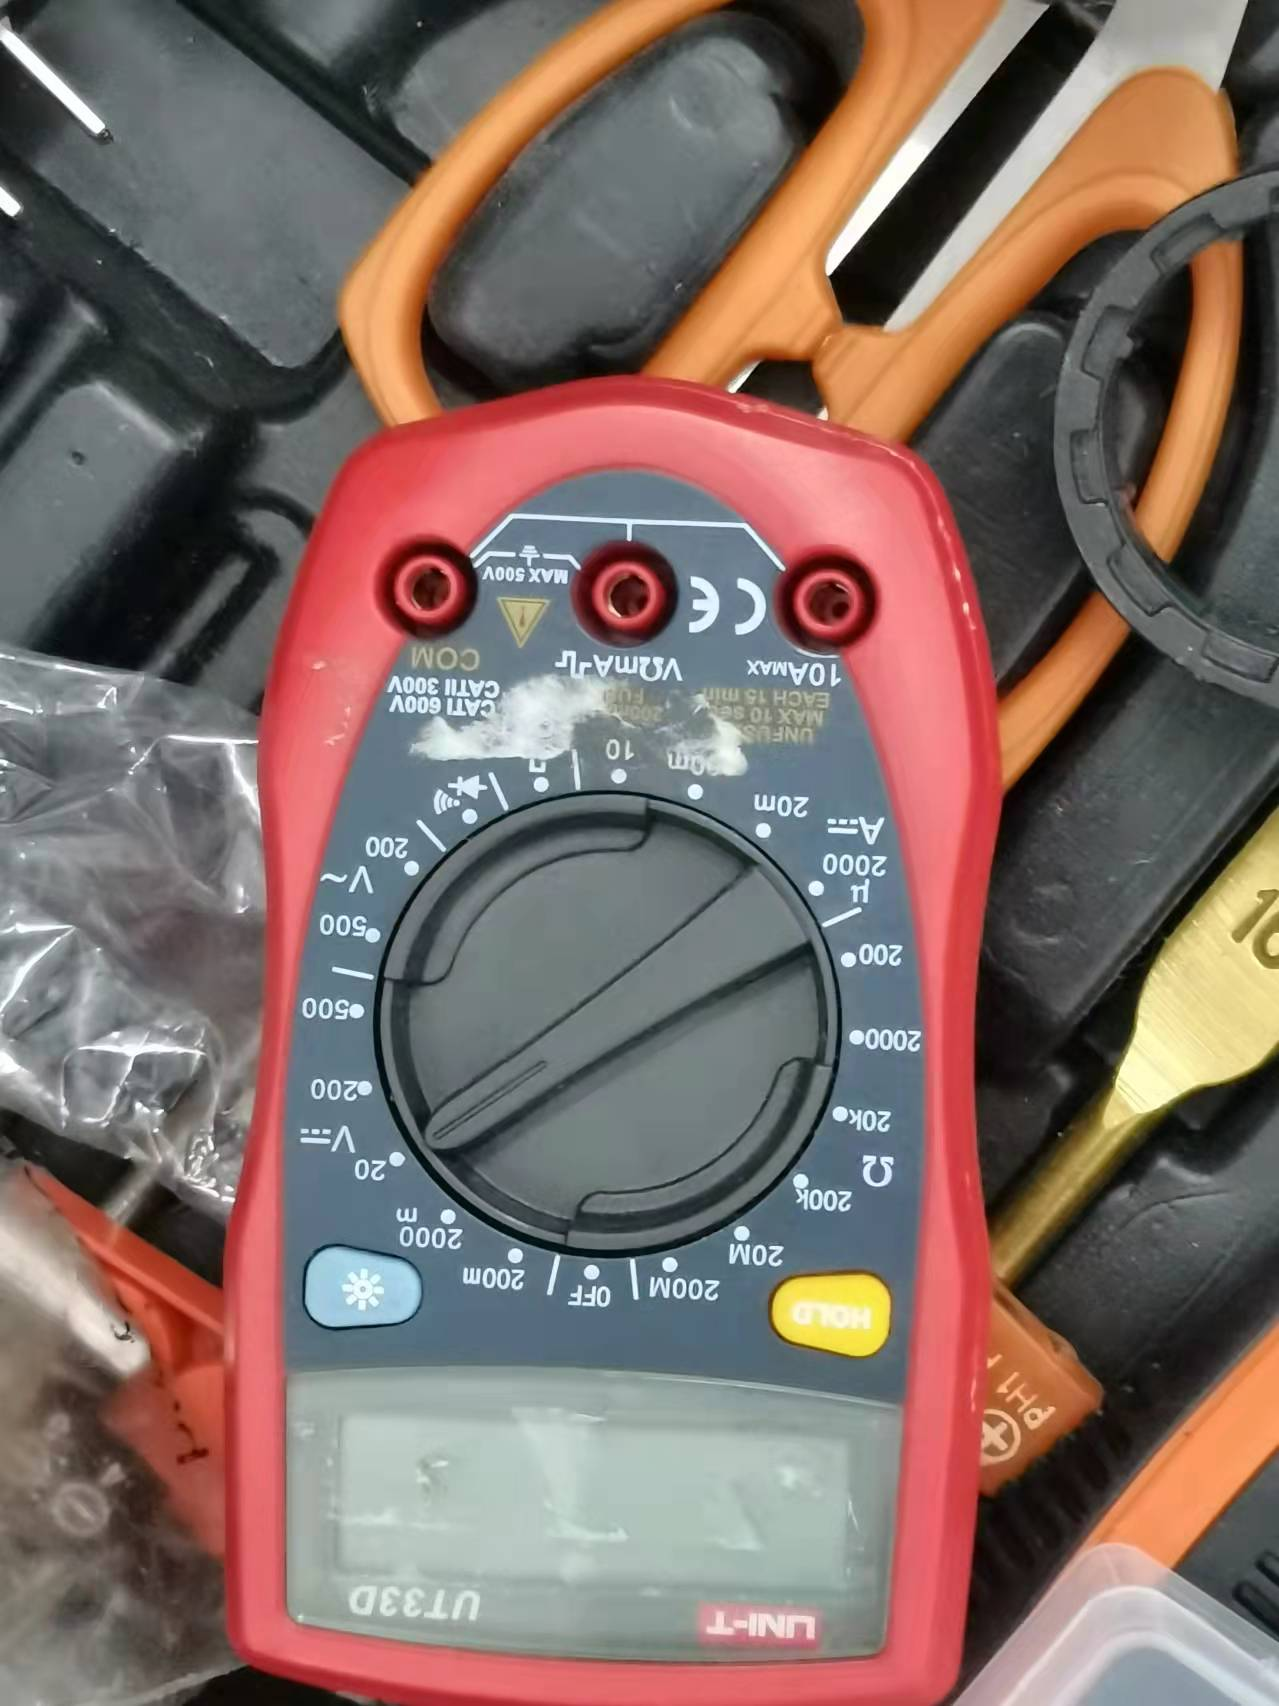Multimeter: (223, 371, 979, 1705)
